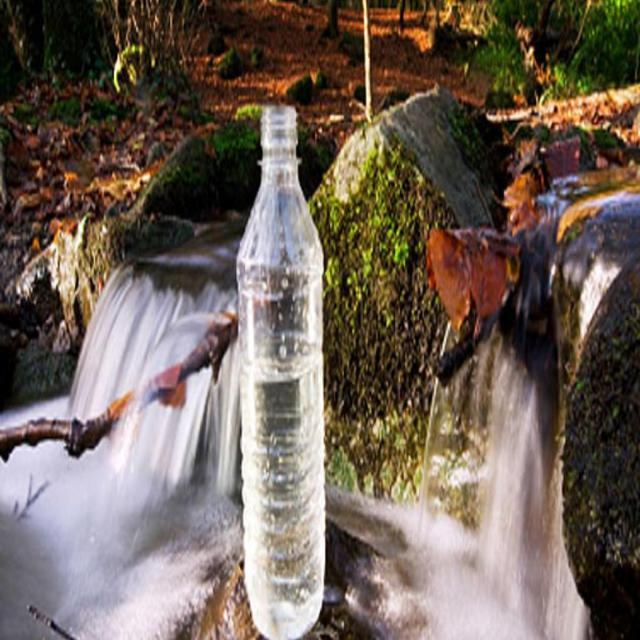bottle: (231, 102, 340, 640)
